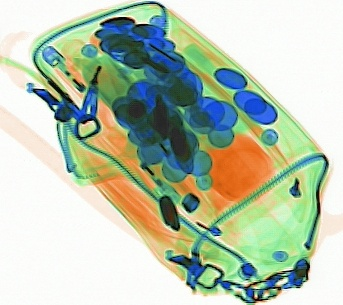lighter: (102, 125, 183, 206), (38, 43, 116, 126)
